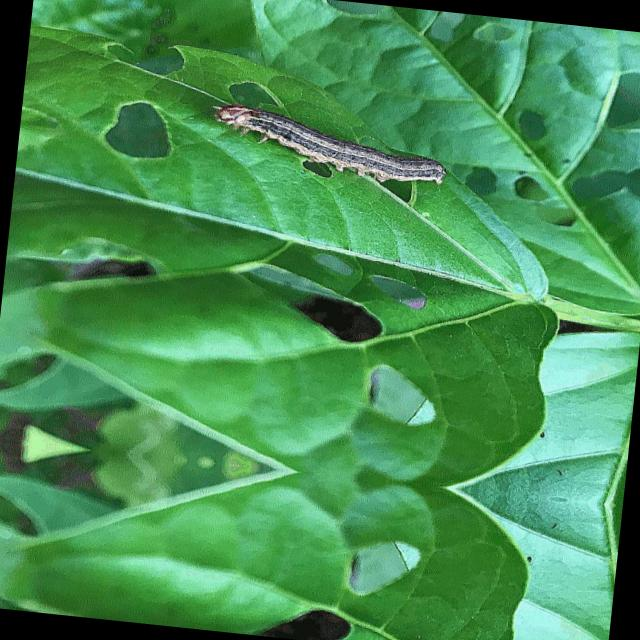Armyworm: (201, 94, 498, 206)
Armyworm_damage: (230, 256, 400, 349), (317, 516, 443, 614), (345, 346, 454, 444), (84, 86, 198, 176), (69, 27, 198, 90), (560, 140, 640, 223), (581, 56, 640, 143), (244, 603, 362, 640), (300, 1, 398, 35), (363, 266, 429, 315), (506, 96, 561, 153), (462, 15, 536, 57), (509, 164, 552, 216), (303, 250, 360, 288), (540, 198, 578, 237)
